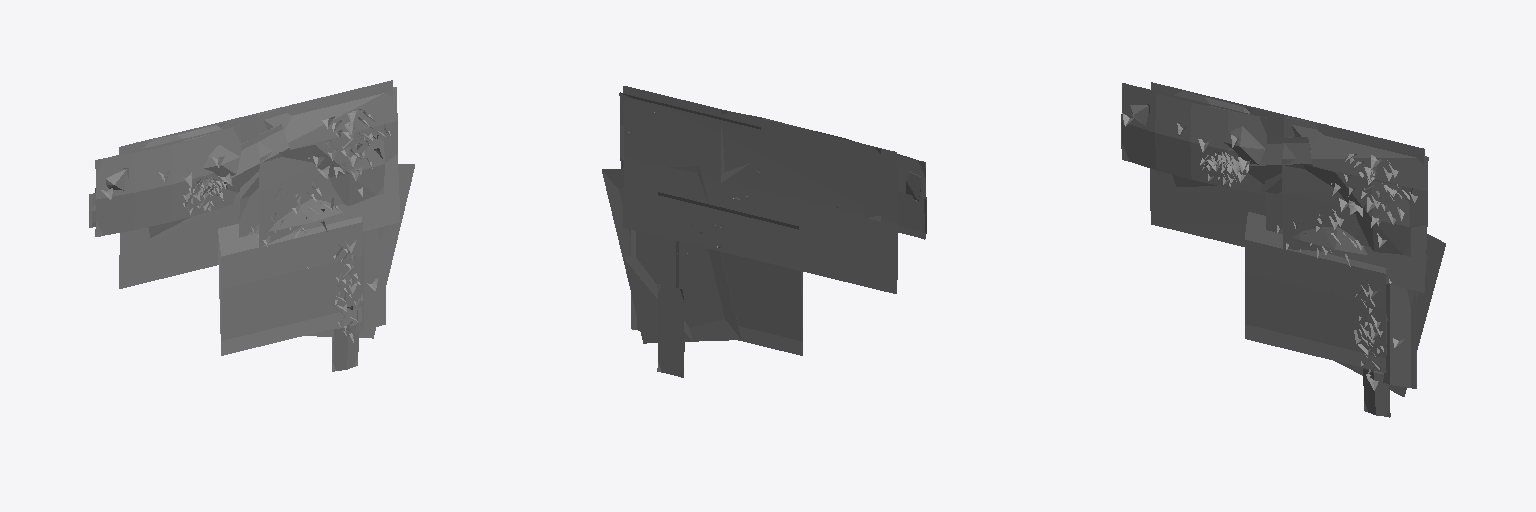
File: Left_Ivy_Dying.obj
3 views of the same model, side by side, from view 1: azimuth 30°, elevation 25°; view 2: azimuth 150°, elevation 25°; view 3: azimuth 330°, elevation 25° (orthographic).
Visible parts, largest first — view 1: Left_Ivy_Dying_LOD0, Left_Ivy_Dying_LOD2; view 2: Left_Ivy_Dying_LOD0, Left_Ivy_Dying_LOD2; view 3: Left_Ivy_Dying_LOD0, Left_Ivy_Dying_LOD2.
Boxes of the visible parts, x1,y1,x2,y2 form: Left_Ivy_Dying_LOD0: [89, 80, 414, 370]; Left_Ivy_Dying_LOD2: [90, 81, 414, 371]; Left_Ivy_Dying_LOD0: [602, 86, 926, 377]; Left_Ivy_Dying_LOD2: [602, 86, 926, 377]; Left_Ivy_Dying_LOD0: [1121, 82, 1445, 416]; Left_Ivy_Dying_LOD2: [1121, 83, 1445, 417].
Bounding box in the file's own units: 349 × 284 × 22.92.